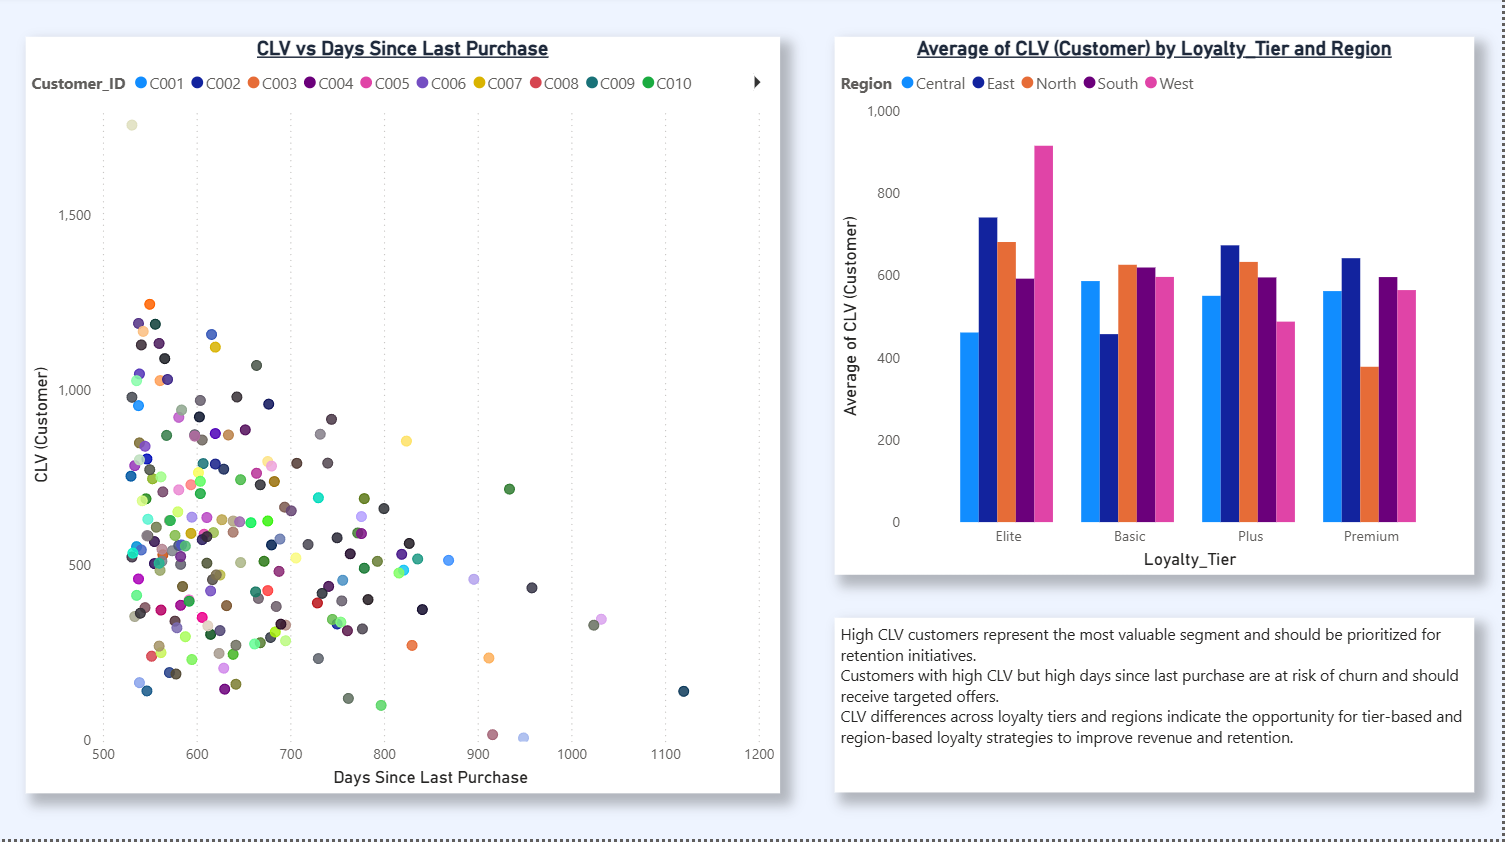

The page's visual inventory and layout, read from the dashboard file:
{"tool":"powerbi","page":{"name":"Task-6 | Customer Value & Segmentation","canvas":[1280,720],"ordinal":5},"visuals":[{"type":"scatterChart","title":"CLV vs Days Since Last Purchase","fields":{"X":["Customer_Demographics.Days Since Last Purchase"],"Y":["Customer_Demographics.CLV (Customer)"],"Series":["Customer_Demographics.Customer_ID"]},"box":[22.1,35,642.7,644.6],"z":0},{"type":"clusteredColumnChart","fields":{"Category":["Loyalty_Program.Loyalty_Tier"],"Y":["Avg(Customer_Demographics.CLV (Customer))"],"Series":["Customer_Demographics.Region"]},"box":[710.9,35,545.1,458.6],"z":1000},{"type":"textbox","box":[710.9,530.4,545.1,149.2],"z":2000}]}

Visuals, with their boxes in screenshot pixels (x1, y1, x2, y2), scaled from the page's 1280x720 canvas onto the 1505x842 screenshot:
"CLV vs Days Since Last Purchase" scatterChart: (x1=26, y1=41, x2=782, y2=795)
clusteredColumnChart - Loyalty_Program.Loyalty_Tier x Avg(Customer_Demographics.CLV (Customer)): (x1=836, y1=41, x2=1477, y2=577)
textbox: (x1=836, y1=620, x2=1477, y2=795)
